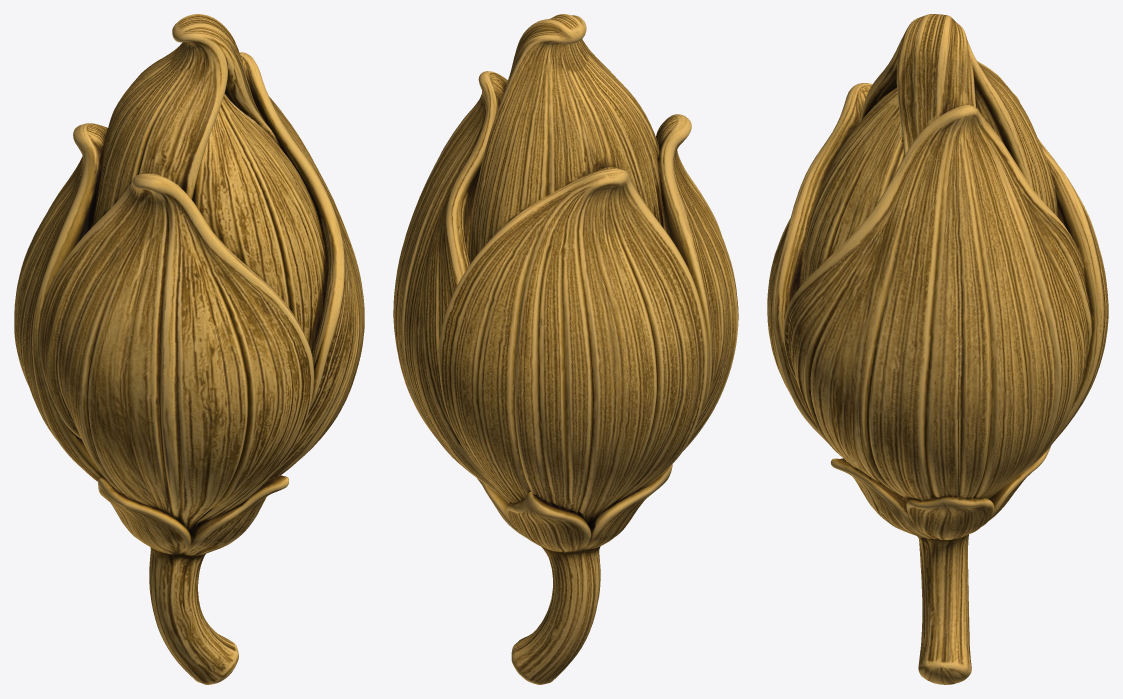
File: golden-bud.glb
The picture shows the model from 3 angles, left to right: view 1: azimuth 30°, elevation 25°; view 2: azimuth 150°, elevation 25°; view 3: azimuth 270°, elevation 25°; orthographic projection.
Bounding box in the file's own units: 0.898 × 1.9 × 0.8929.
Materials: 1 (1 with a texture image).
